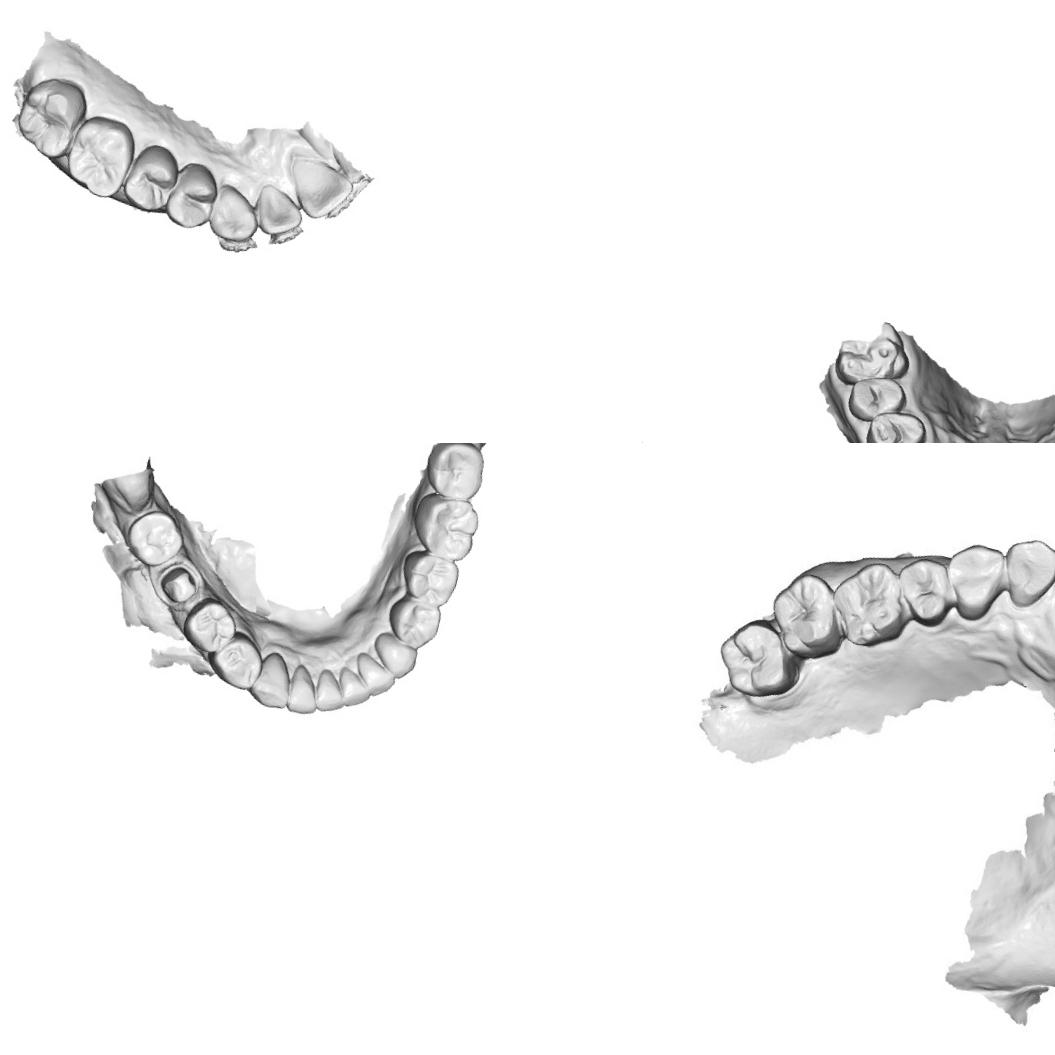abutment: (155, 558, 203, 607)
canine: (992, 528, 1055, 616), (204, 180, 266, 246), (245, 646, 298, 712), (366, 628, 422, 682)
incisor: (280, 155, 358, 226), (249, 180, 308, 241), (282, 662, 325, 718), (308, 665, 352, 716), (330, 663, 376, 711), (357, 658, 399, 701)
molar: (818, 547, 918, 660), (706, 611, 805, 712), (760, 564, 852, 664), (828, 309, 919, 399), (10, 70, 95, 164), (59, 110, 140, 202), (404, 489, 482, 564), (119, 502, 190, 572), (419, 443, 491, 504)
premolar: (940, 538, 1008, 620), (893, 552, 962, 628), (118, 138, 184, 216), (200, 623, 269, 694), (160, 156, 222, 234), (177, 591, 242, 658), (394, 546, 462, 609), (842, 368, 910, 430), (380, 594, 443, 652), (859, 403, 930, 443)
